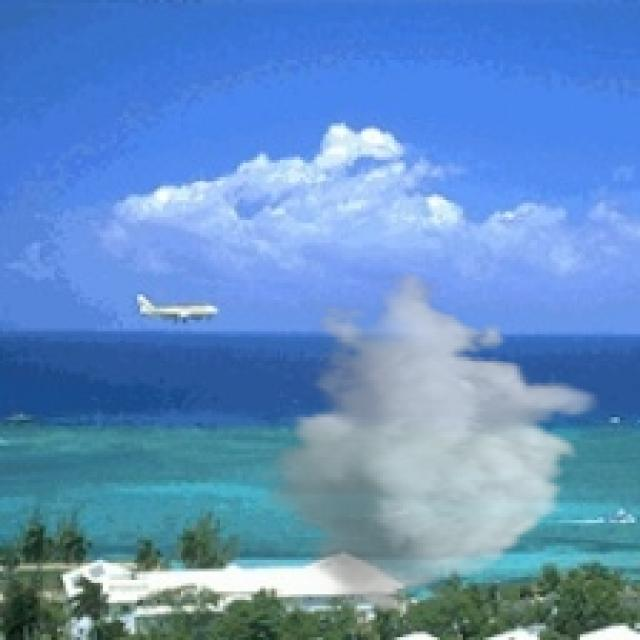smoke: (254, 272, 603, 617)
